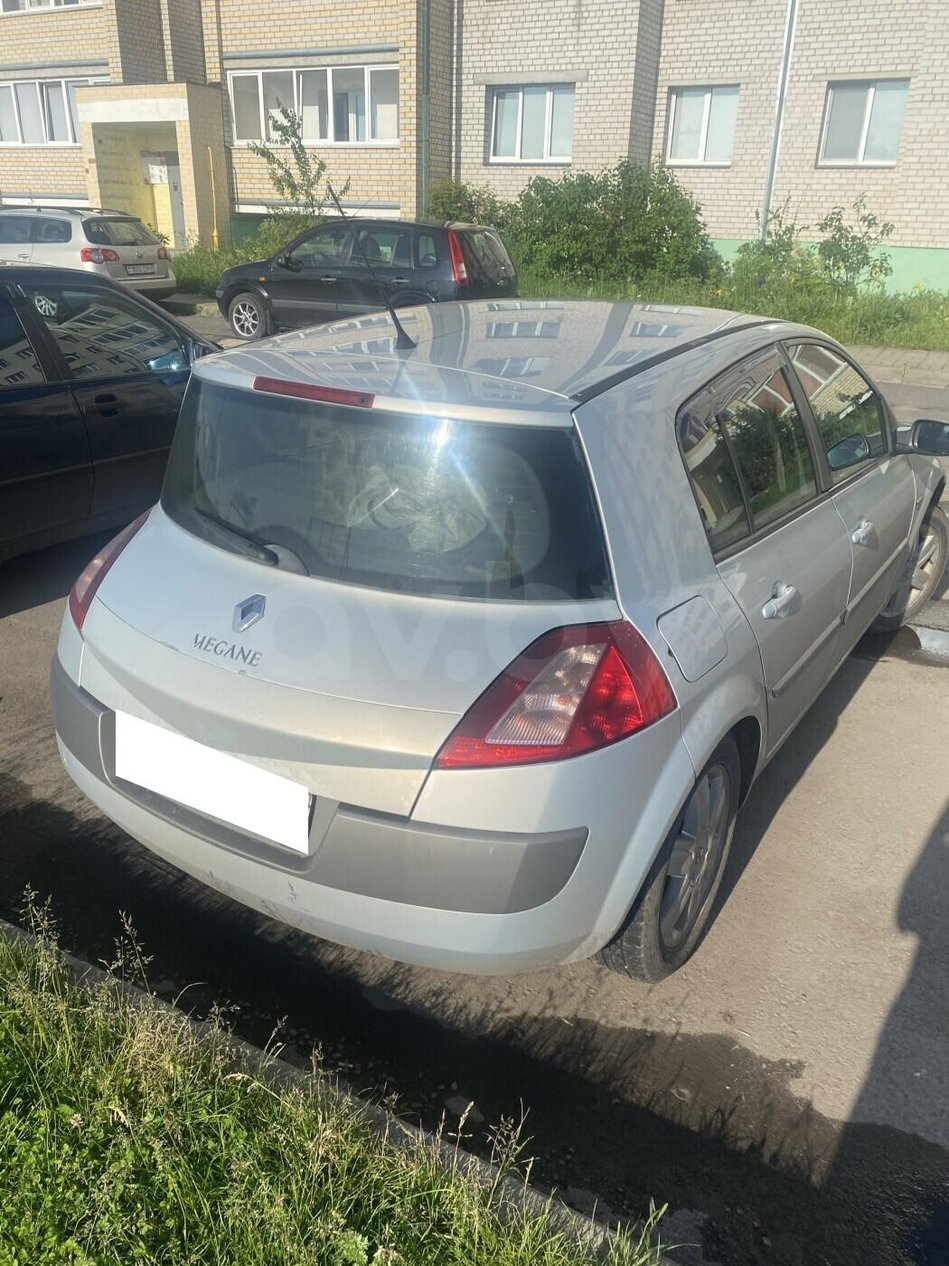Megane_2002-2006: (47, 286, 949, 995)
